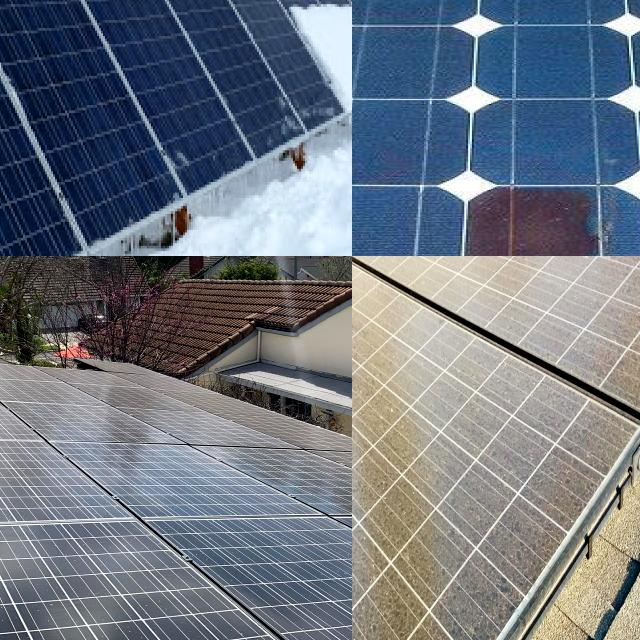dust: (352, 372, 524, 569), (0, 592, 242, 640), (471, 256, 640, 310), (352, 256, 432, 347), (294, 536, 352, 637)
panel: (281, 0, 352, 109), (158, 104, 200, 202)
shadow: (422, 170, 628, 256)
